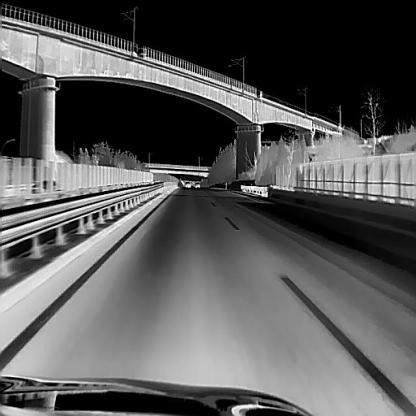car: (184, 180, 191, 187), (194, 180, 199, 187)
